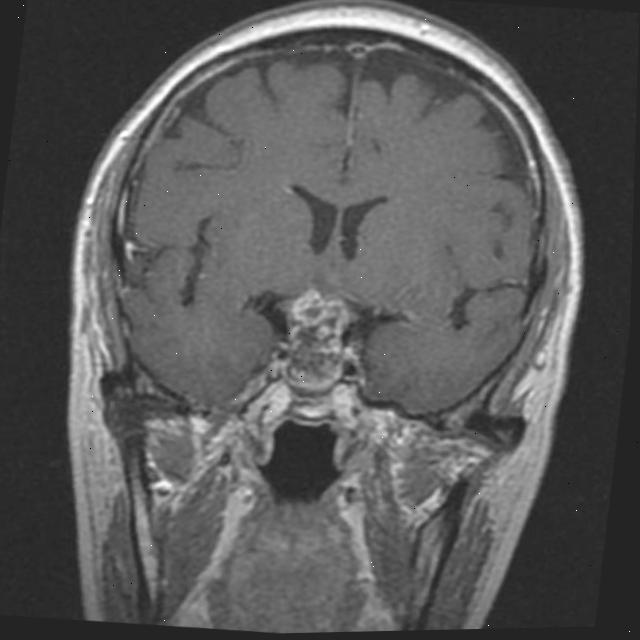Pituitary: (279, 287, 354, 394)
